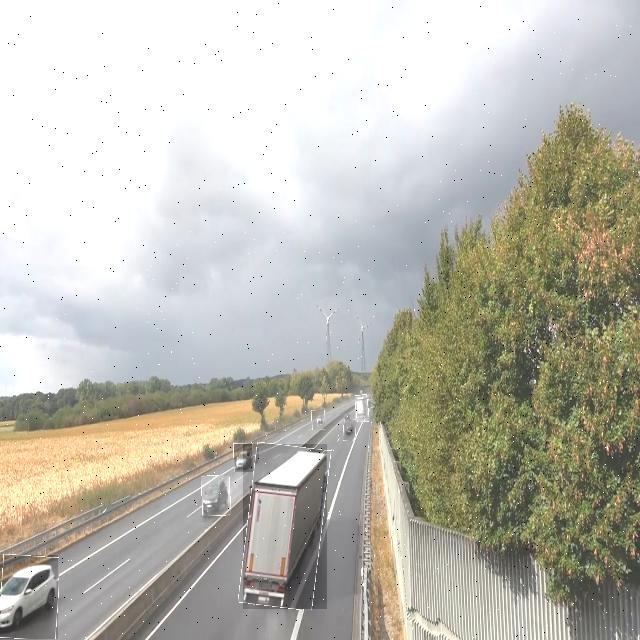Car: (0, 555, 58, 639), (202, 476, 230, 516), (234, 443, 253, 472), (344, 419, 356, 441), (312, 410, 325, 430)
Truck: (243, 444, 327, 609), (355, 395, 369, 422)
